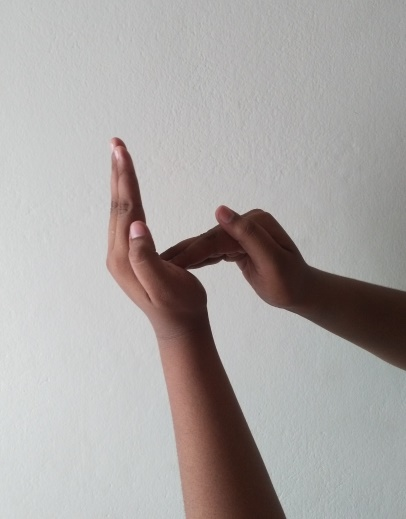ga: (100, 133, 304, 326)
